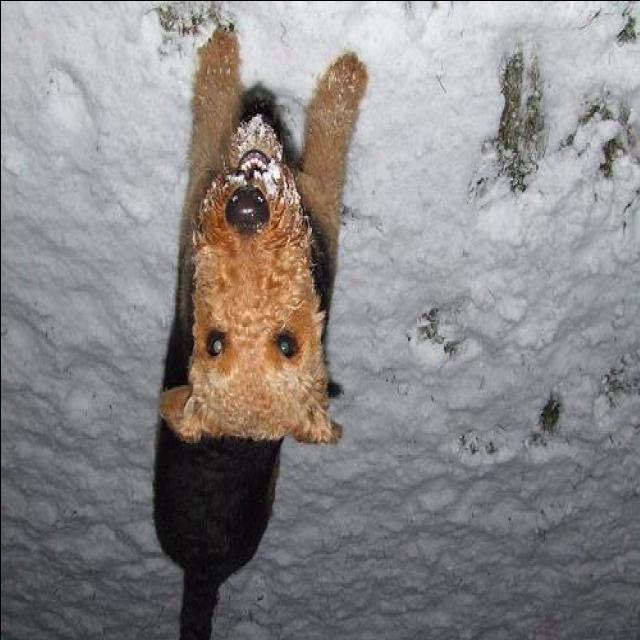airedale: (146, 17, 372, 637)
